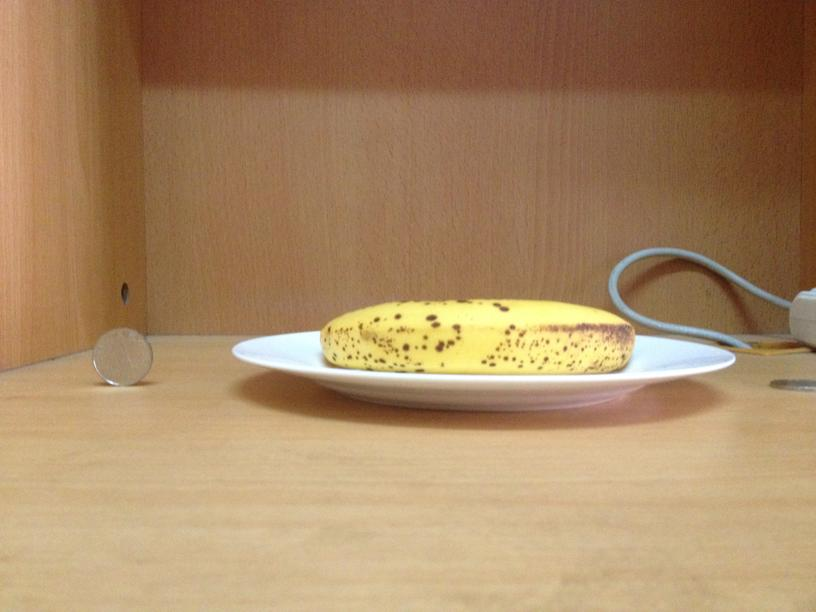banana: (316, 298, 635, 373)
coin: (89, 325, 153, 387)
